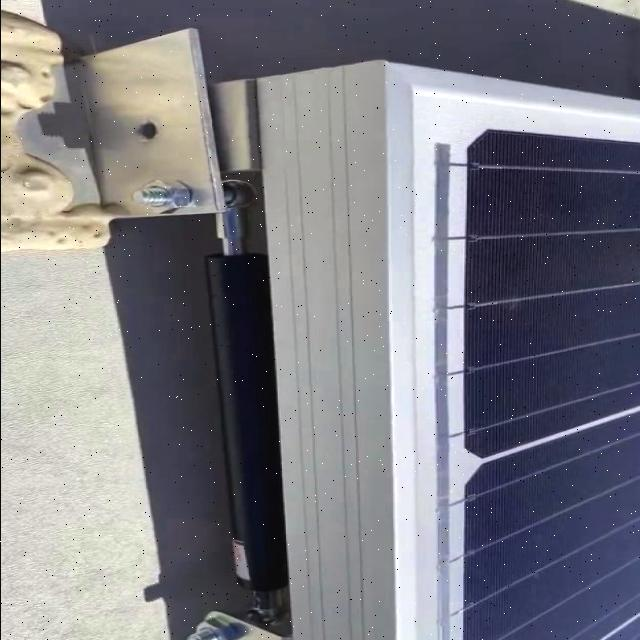Normal Solar Panel: (382, 61, 640, 640)
